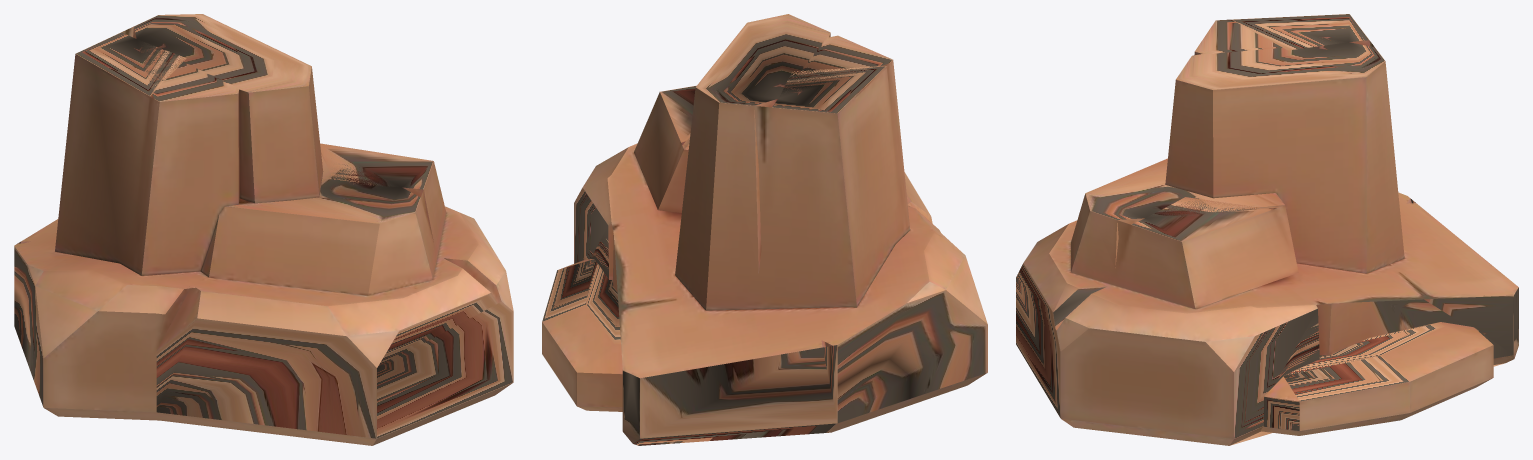
The model's file is desert-rock-14.glb.
3 views of the same model, side by side, from view 1: azimuth 30°, elevation 25°; view 2: azimuth 150°, elevation 25°; view 3: azimuth 270°, elevation 25° (orthographic). The views are drawn at different scales.
Visible parts, largest first — view 1: Rock_10; view 2: Rock_10; view 3: Rock_10.
Part boxes in pixels (box(x1,y1,x2,y2)): Rock_10: box(14, 14, 513, 445); Rock_10: box(542, 14, 987, 445); Rock_10: box(1016, 14, 1518, 445).
Bounding box in the file's own units: 2 × 1.4 × 2.18.
1 material, 1 textured.
